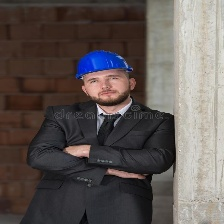helmet: (68, 49, 135, 82)
no-vest: (38, 104, 160, 218)
person: (34, 50, 178, 218)
